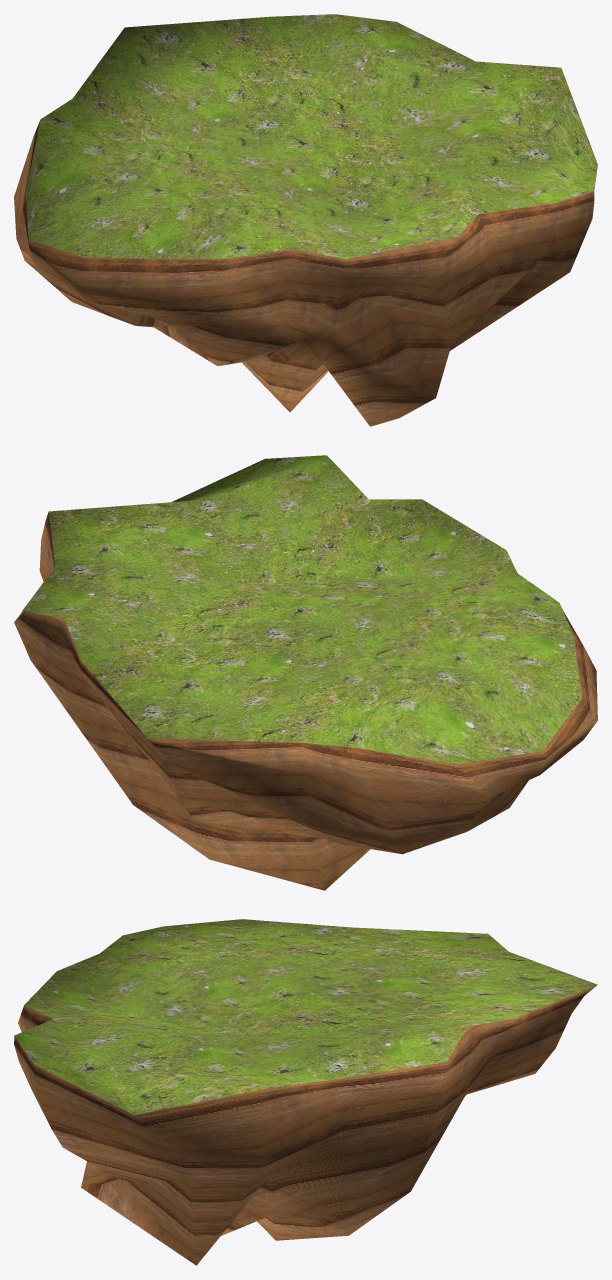
Rendered from island01noCave.fbx.
3 views of the same model, one above another, from view 1: azimuth 30°, elevation 25°; view 2: azimuth 150°, elevation 25°; view 3: azimuth 270°, elevation 25° (orthographic). The views are drawn at different scales.
Parts seen in each view (by area): view 1: 01- island01; view 2: 01- island01; view 3: 01- island01.
Part boxes in pixels (x1,y1,x2,y2): 01- island01: [14, 14, 597, 426]; 01- island01: [14, 455, 597, 890]; 01- island01: [14, 919, 597, 1265].
Size of the model in its own units: 13487 by 7363 by 13796.
